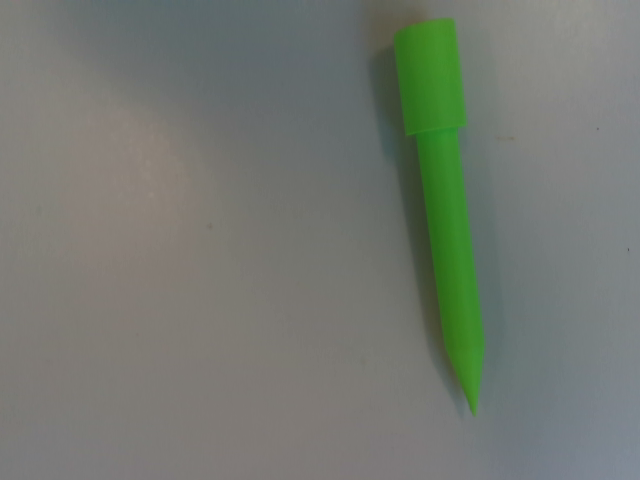Probe: (384, 12, 496, 429)
